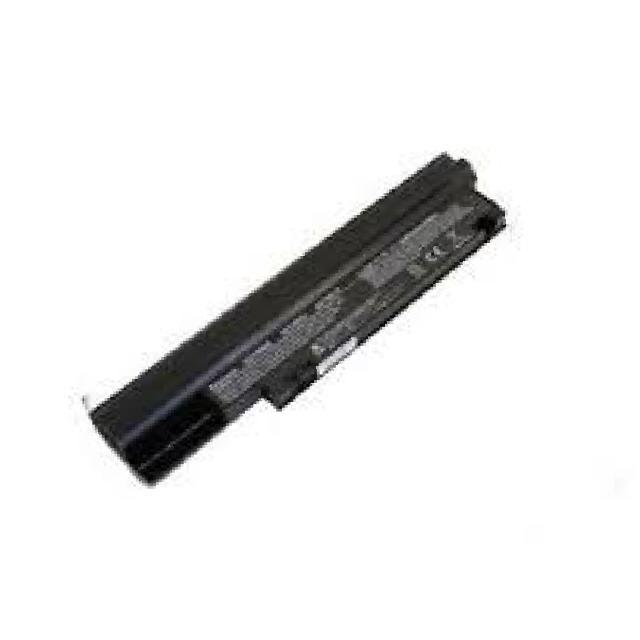Battery: (39, 100, 532, 524)
